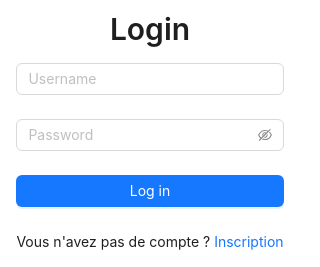
Login Component › shows validation messages for empty inputs
This screenshot has width=320, height=267.
What coordinates should you click on to do the following:
click the button "Log in"
I would click on:
 (150, 191)
Its box is [16, 175, 284, 207].
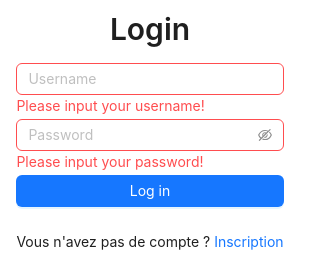
Now the text "Please input your username!" is shown, box [16, 97, 205, 114]
Now the text "Please input your password!" is shown, box [16, 153, 204, 170]
